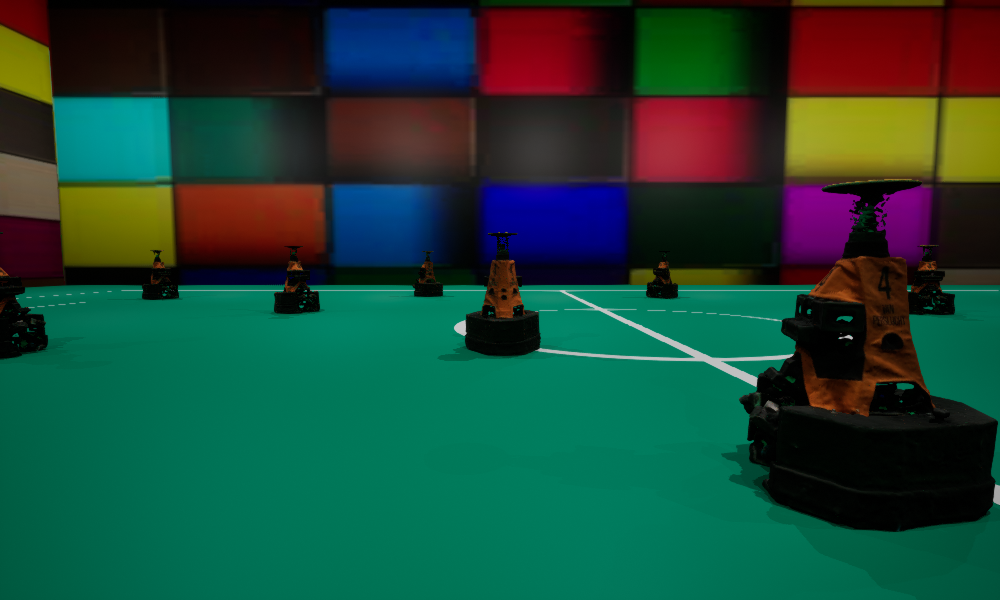0 orange robot TechUnited: (739, 179, 997, 530), (465, 232, 540, 355), (0, 232, 47, 358), (908, 245, 954, 313), (274, 246, 319, 313), (142, 250, 178, 299), (646, 251, 677, 297), (412, 251, 442, 296)
